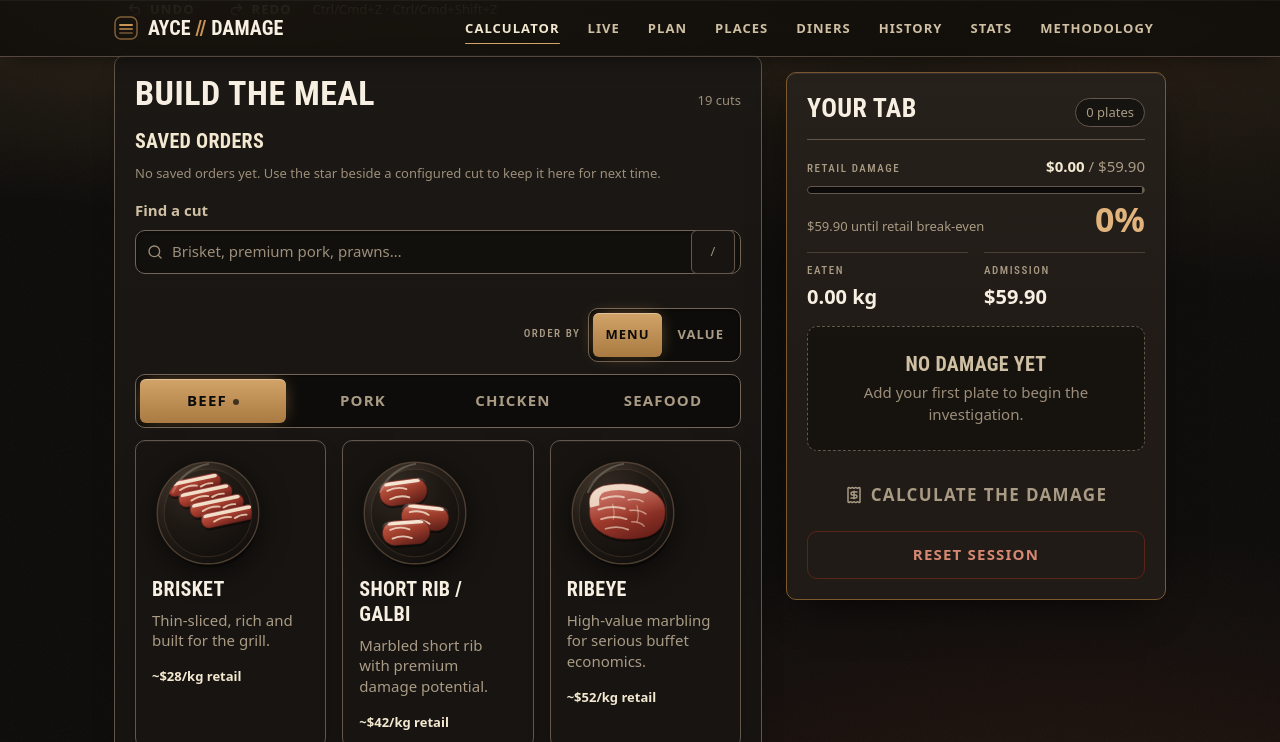
Test: CalculatorApp › offers locally authored foods in the same builder and tab as built-in cuts
(page scrolled)
Click the tab "Chicken" at (513, 401), box left=440, top=379, right=586, bottom=423
(page scrolled)
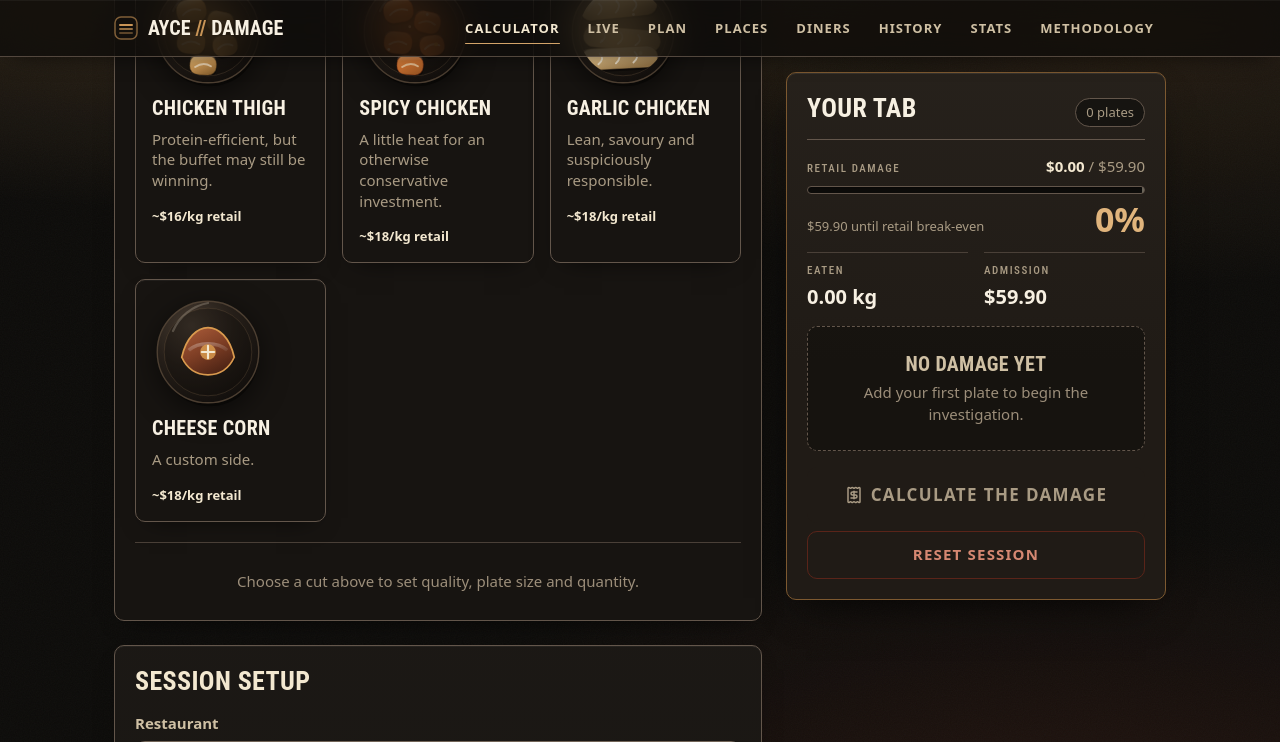
Check: the button "Cheese corn A custom side. ~$18/kg retail" is shown
Click the button "Cheese corn A custom side. ~$18/kg retail" at (231, 400), box left=135, top=279, right=326, bottom=522
(page scrolled)
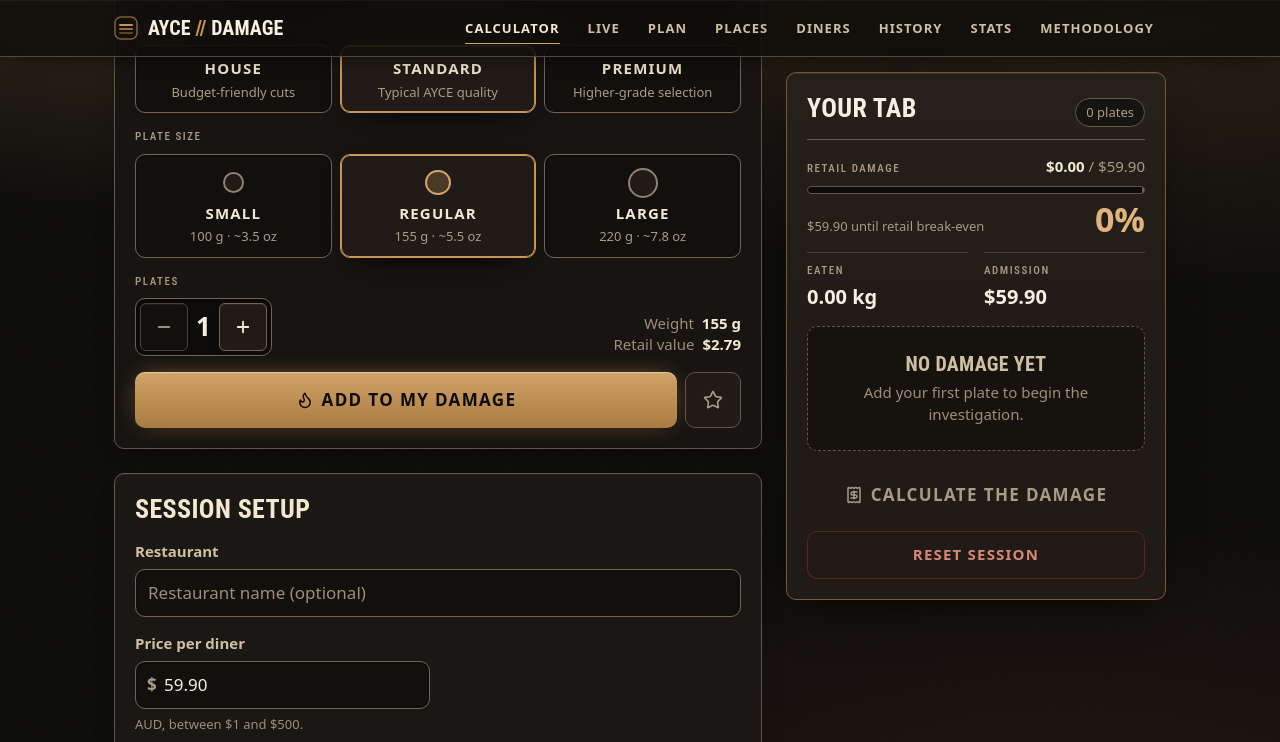
Click the button "Add to my damage" at (406, 400), box left=135, top=372, right=677, bottom=428
(page scrolled)
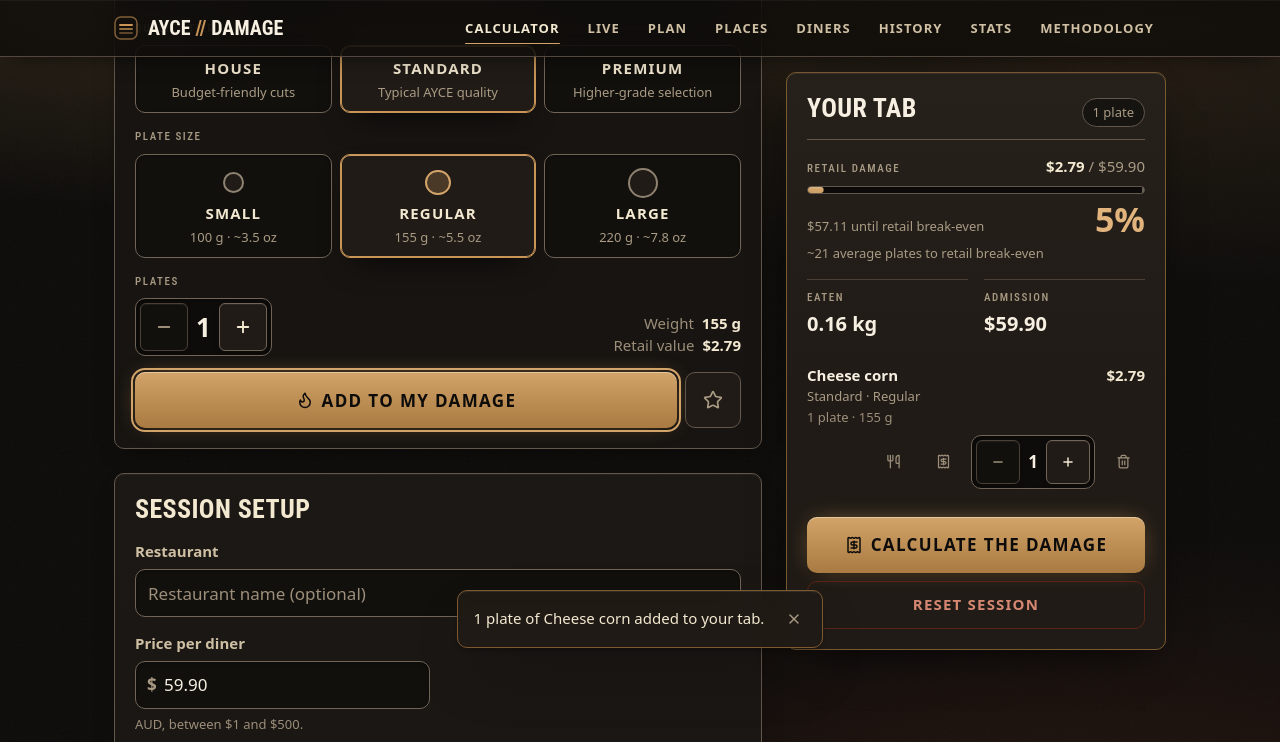
Check: the text "$2.79" is shown 2 times, box left=1046, top=156, right=1145, bottom=178; left=1106, top=365, right=1145, bottom=387
Check: the text "Cheese corn" is shown, box left=807, top=365, right=898, bottom=385
